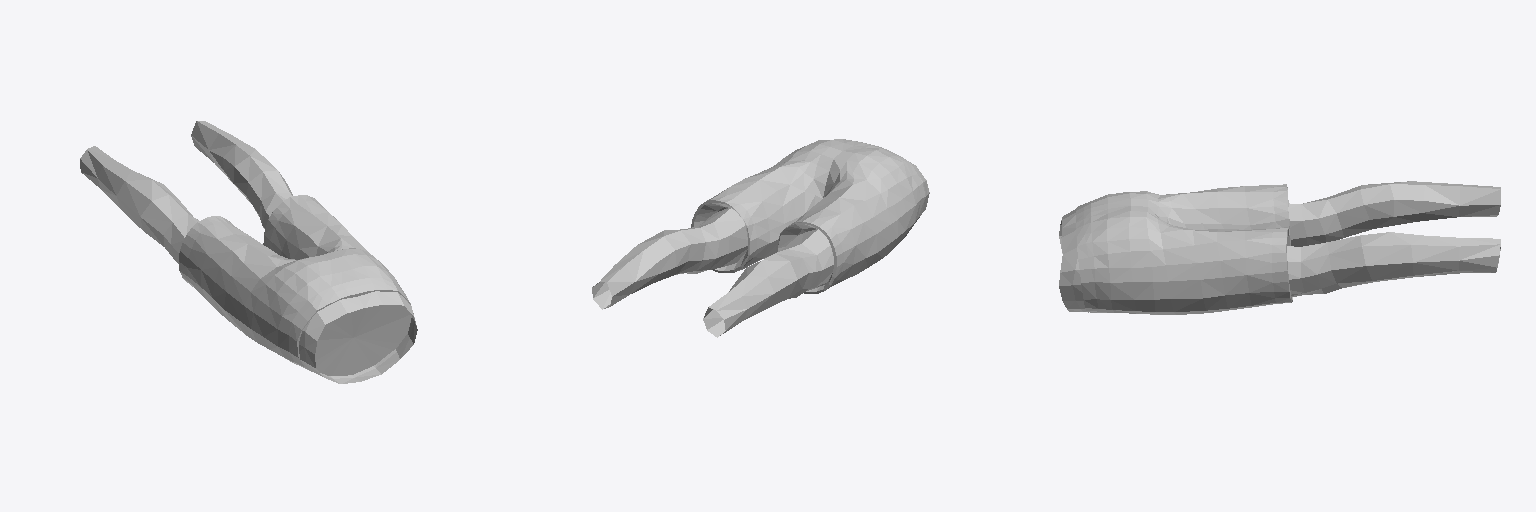
The model's file is Pants.obj.
The picture shows the model from 3 angles: view 1: azimuth 30°, elevation 25°; view 2: azimuth 150°, elevation 25°; view 3: azimuth 270°, elevation 25°; orthographic projection.
Visible parts, largest first — view 1: Pants, Pants_1; view 2: Pants, Pants_1; view 3: Pants, Pants_1.
Boxes of the visible parts, x1,y1,x2,y2 form: Pants: [179, 195, 413, 375]; Pants_1: [80, 121, 417, 383]; Pants: [691, 139, 925, 293]; Pants_1: [592, 162, 929, 337]; Pants: [1076, 184, 1292, 314]; Pants_1: [1059, 181, 1500, 311].
Bounding box in the file's own units: 0.3409 × 0.2291 × 0.8919.